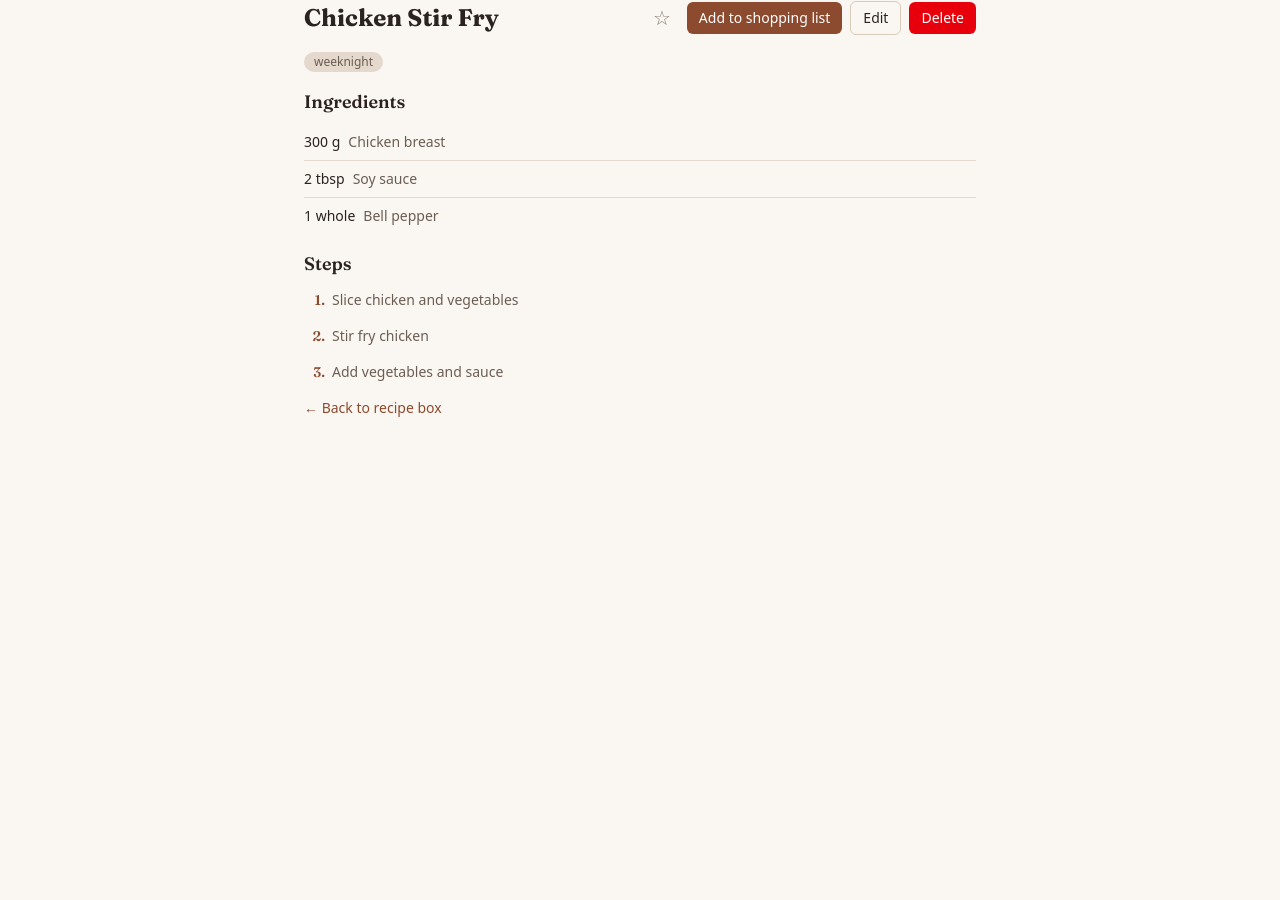
Test: RecipeDetail (against the typed mock) › cancelling the delete confirmation changes nothing (AC4)
Expected: the heading "Chicken Stir Fry" is shown, left=304, top=2, right=499, bottom=34
Click the button "Delete": x=943, y=18 left=909, top=2, right=976, bottom=34
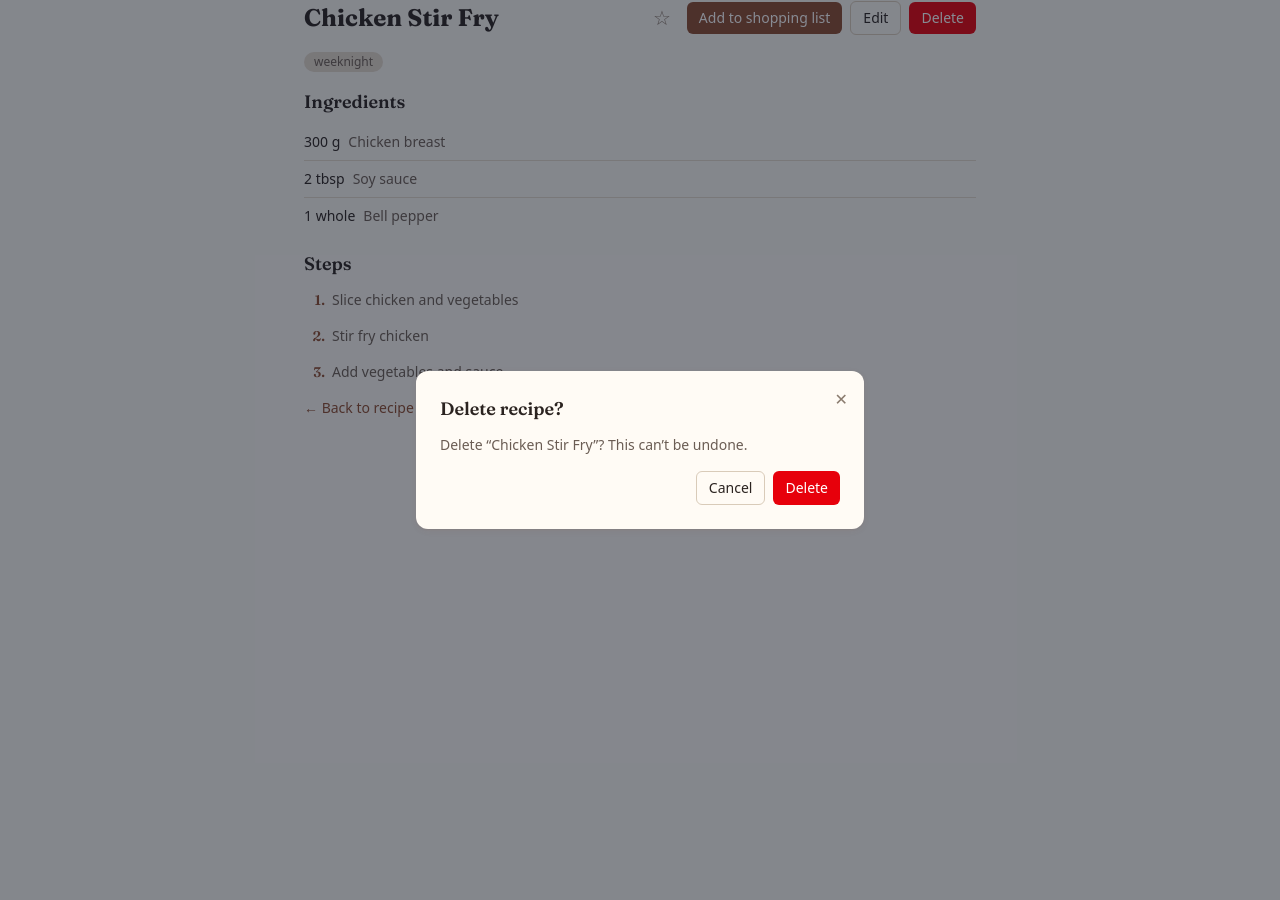
Expected: the dialog is shown, left=416, top=371, right=864, bottom=529
Click the button "Cancel": x=731, y=488 left=696, top=471, right=765, bottom=505
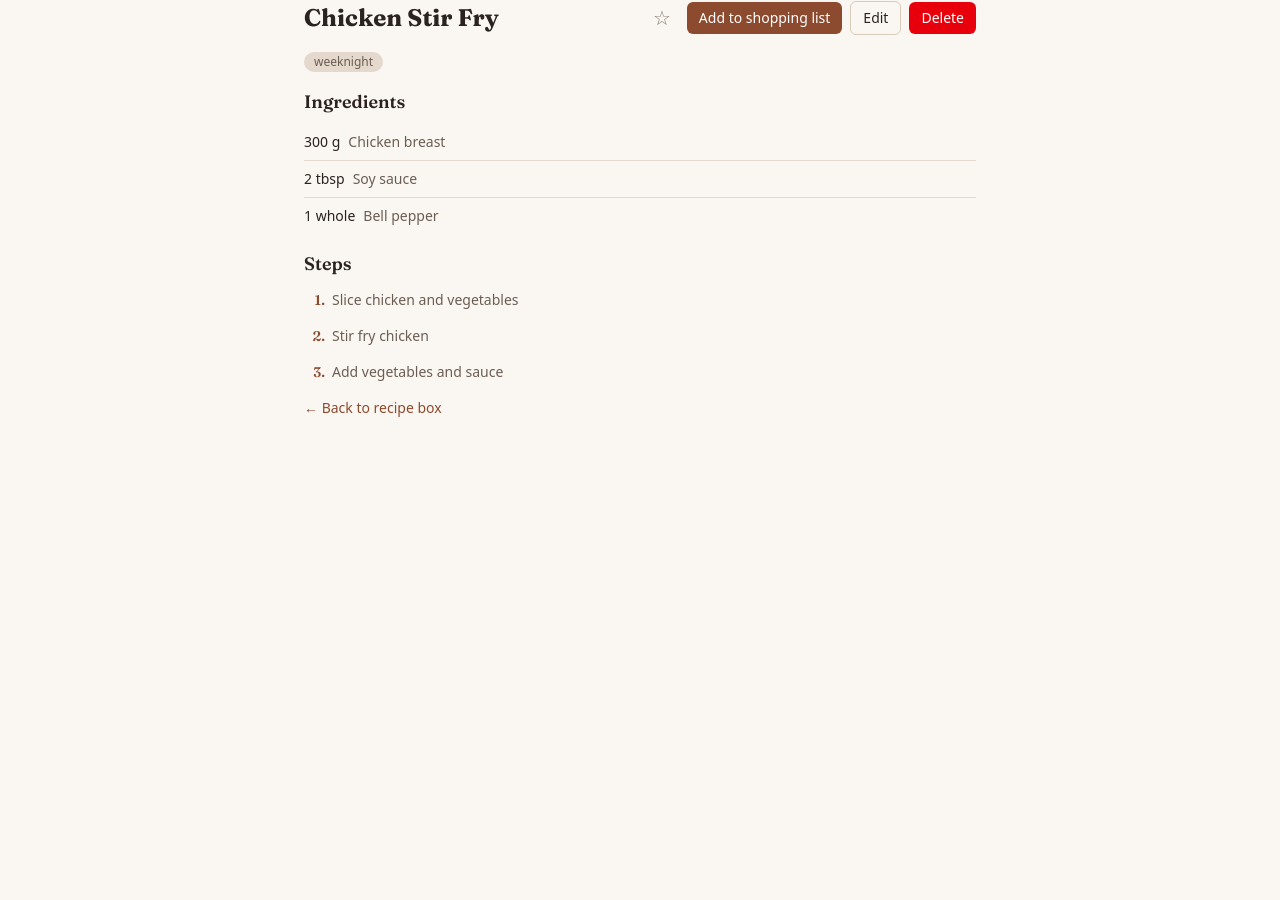
Expected: the heading "Chicken Stir Fry" is shown, left=304, top=2, right=499, bottom=34
Expected: the dialog is gone
